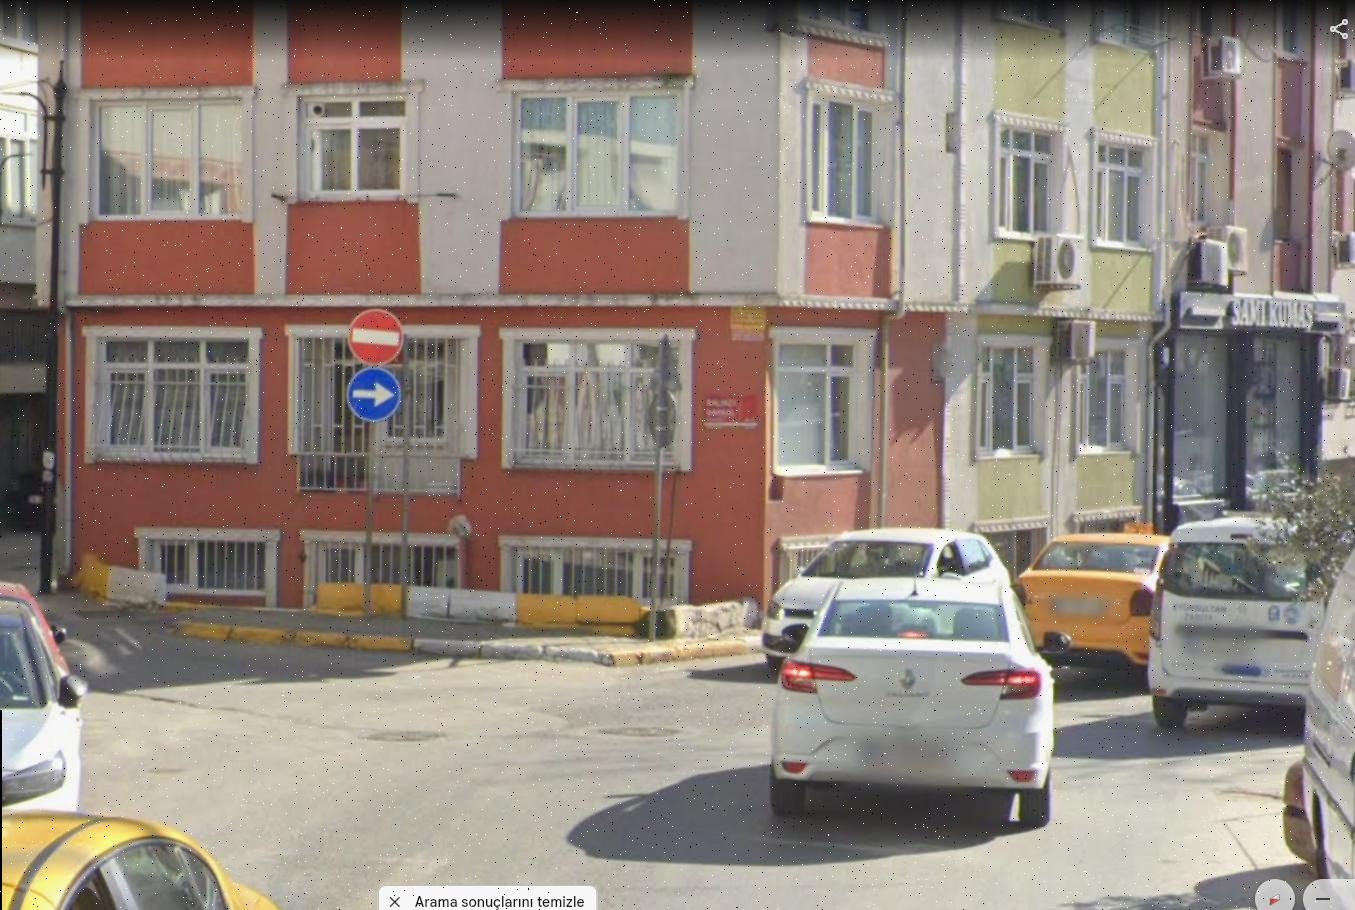turnright: (346, 369, 398, 420)
